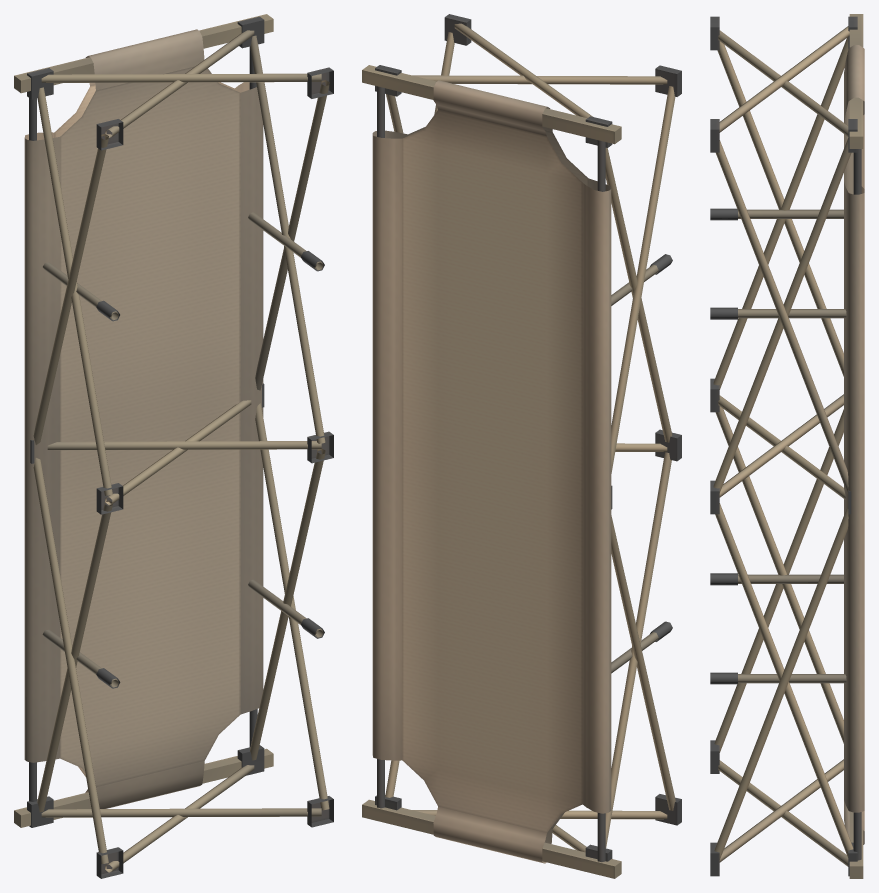
The model's file is Bed.fbx.
The picture shows the model from 3 angles, left to right: view 1: azimuth 30°, elevation 25°; view 2: azimuth 150°, elevation 25°; view 3: azimuth 270°, elevation 25°; orthographic projection.
Visible parts, largest first — view 1: Bed; view 2: Bed; view 3: Bed.
Part boxes in pixels (x1,y1,x2,y2): Bed: (14,14,333,878); Bed: (362,14,681,878); Bed: (710,14,864,878).
Bounding box in the file's own units: 0.63 × 1.8 × 0.3352.
